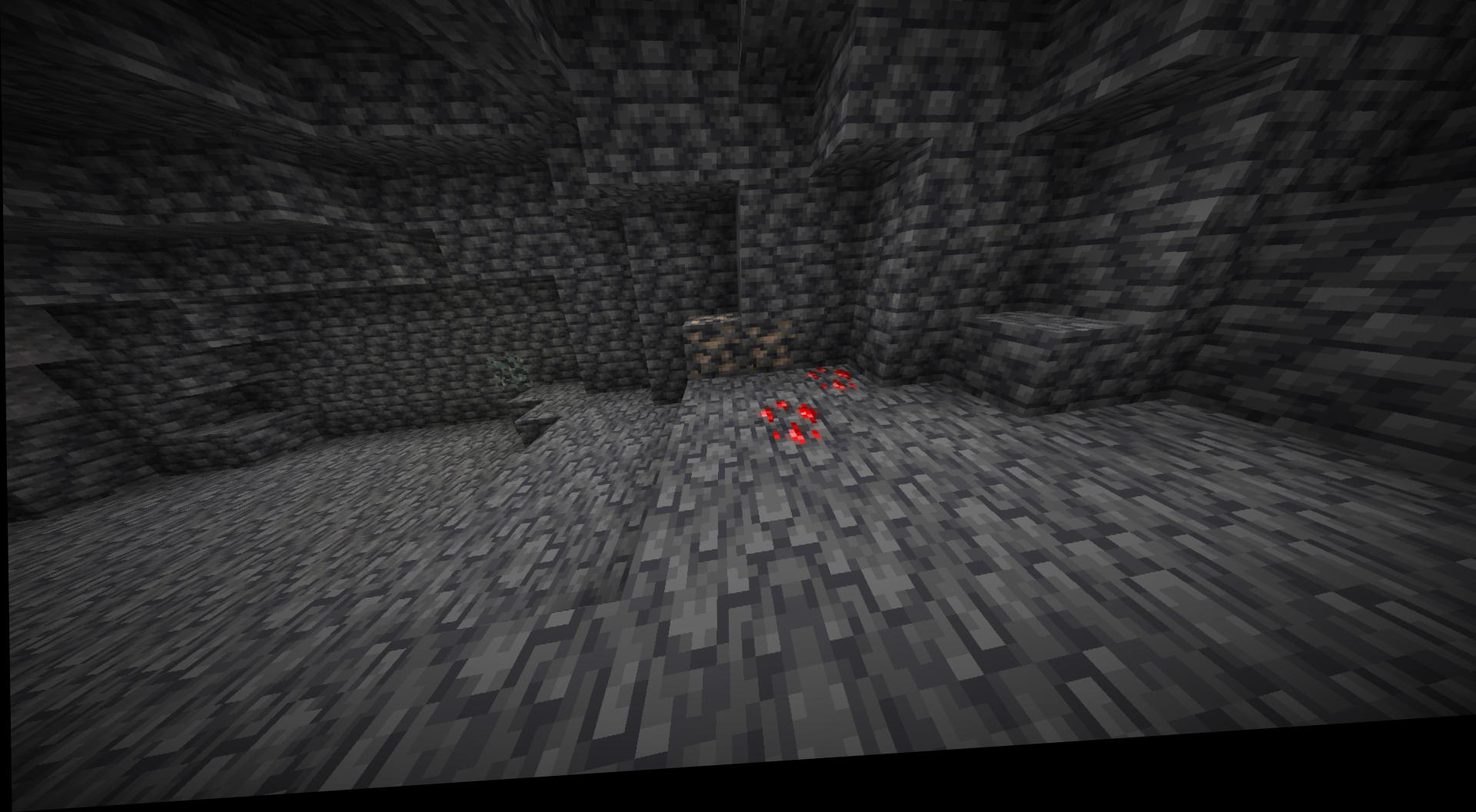iron ore: (682, 317, 741, 384), (746, 325, 794, 379)
redstone ore: (755, 408, 829, 460), (809, 368, 859, 412)
